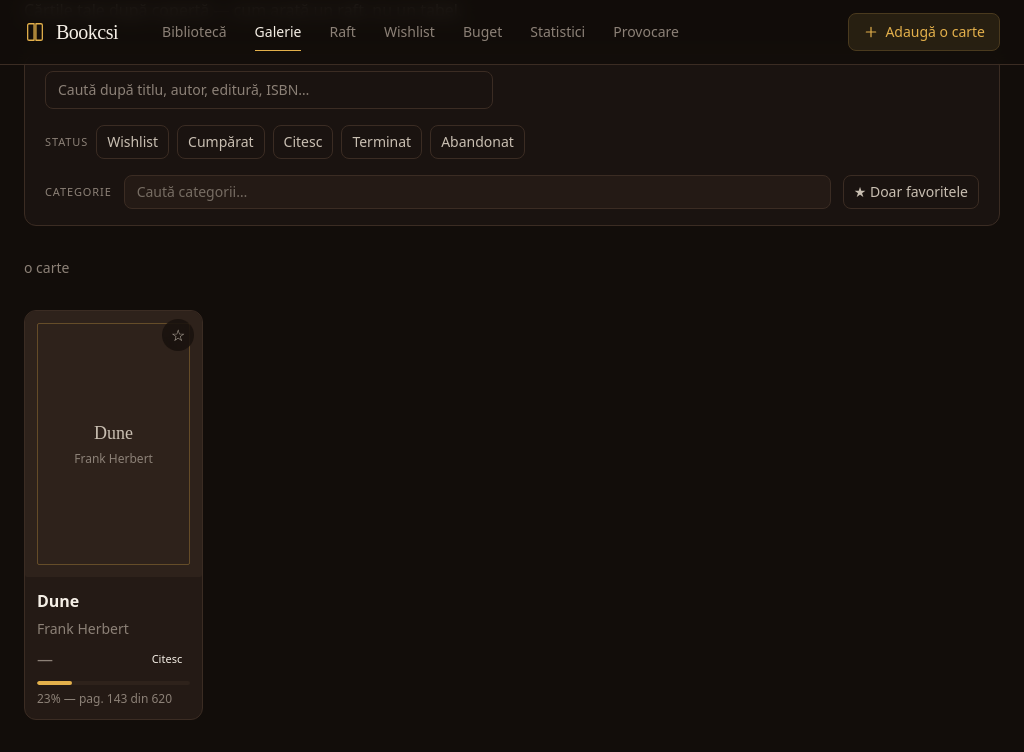
it: BookProfilePage — the way back (§D41) › actually goes back there
(page scrolled)
What coordinates should you click on to do the following:
click the button "Dune"
I would click on:
 (114, 601)
Its box is [37,589,190,613].
(page scrolled)
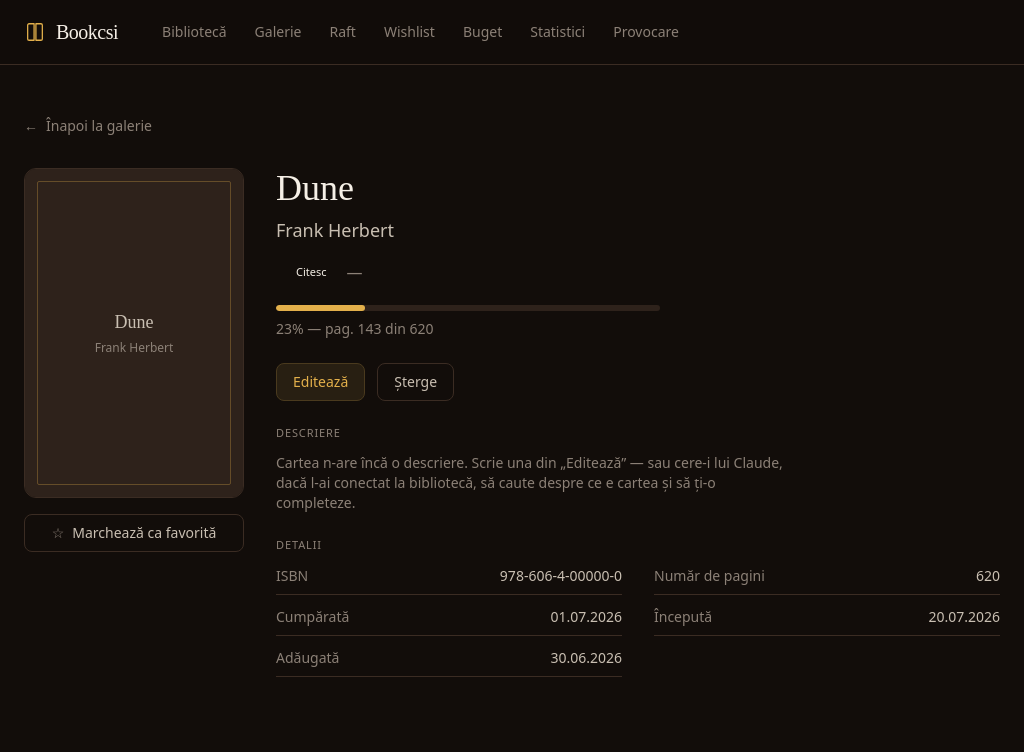
What coordinates should you click on to do the following:
click the link "← Înapoi la galerie"
I would click on:
 (88, 126)
Its box is [24,116,152,136].
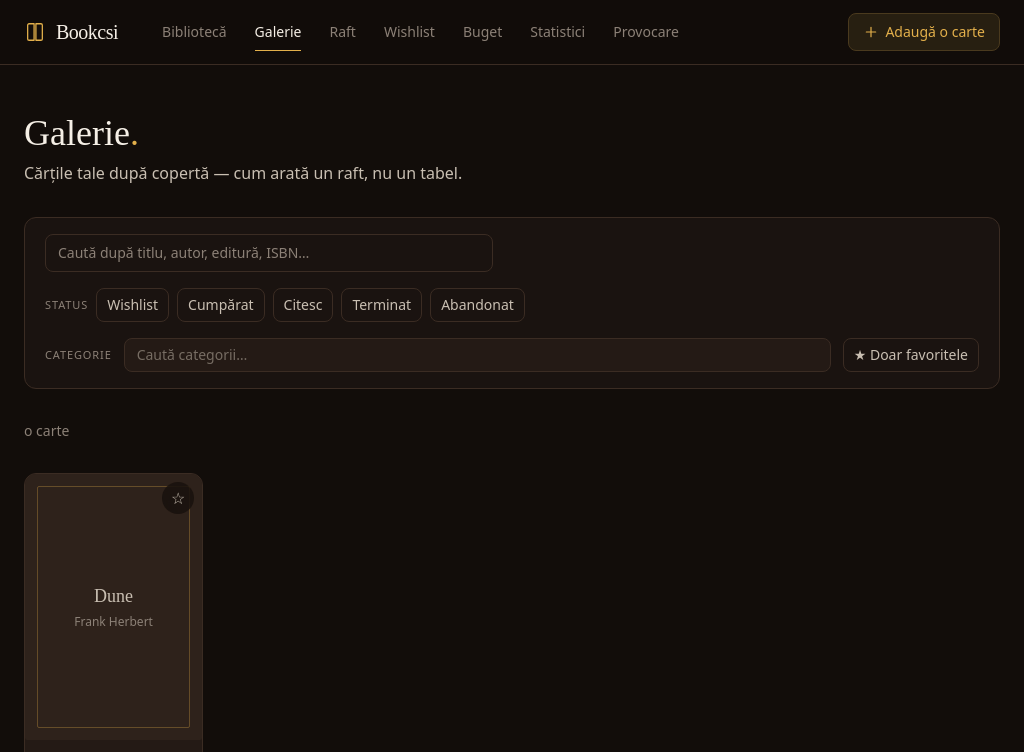
Check: the heading "Galerie." is shown, box [24,113,139,153]
